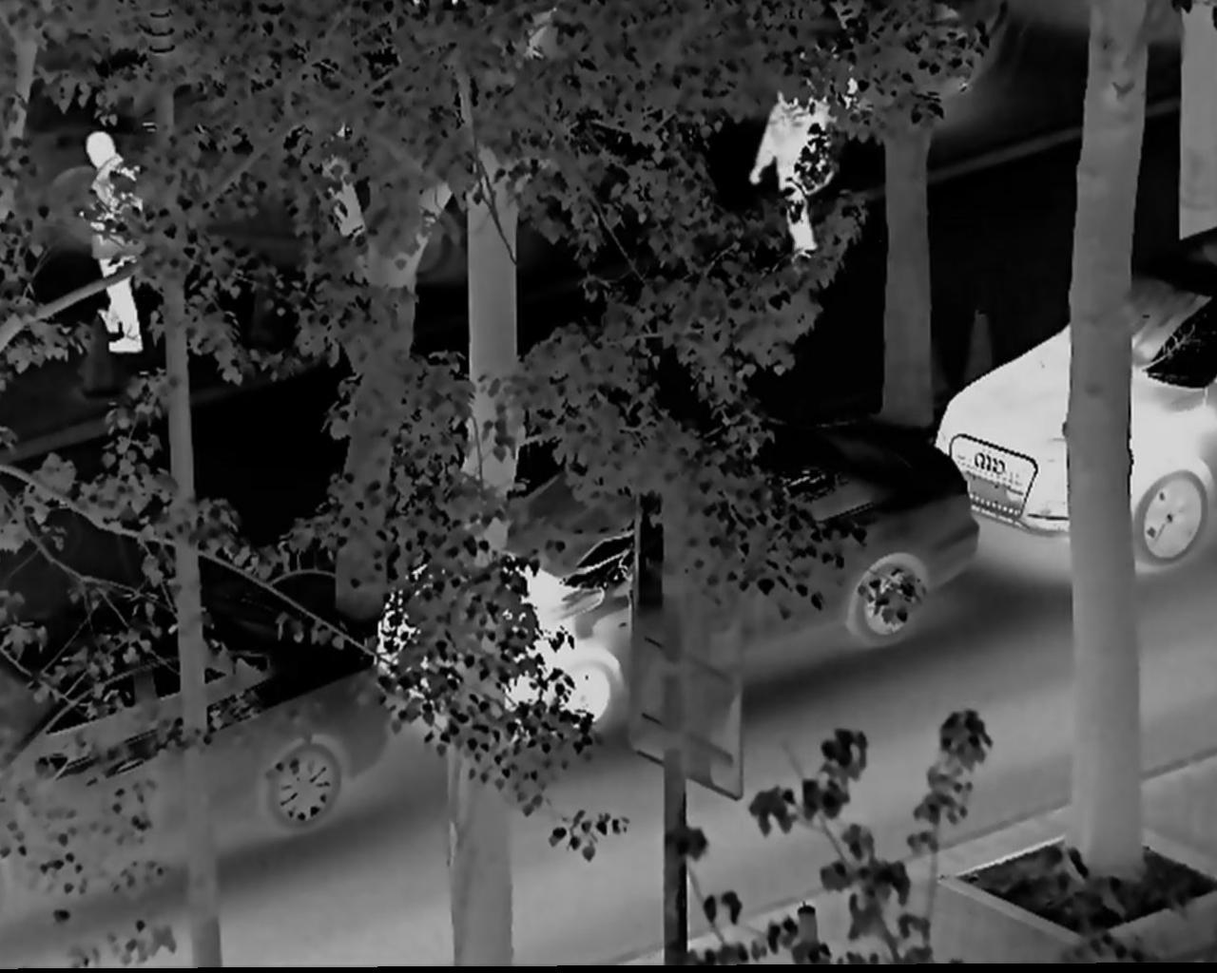person: (754, 55, 853, 270), (74, 123, 150, 353)
